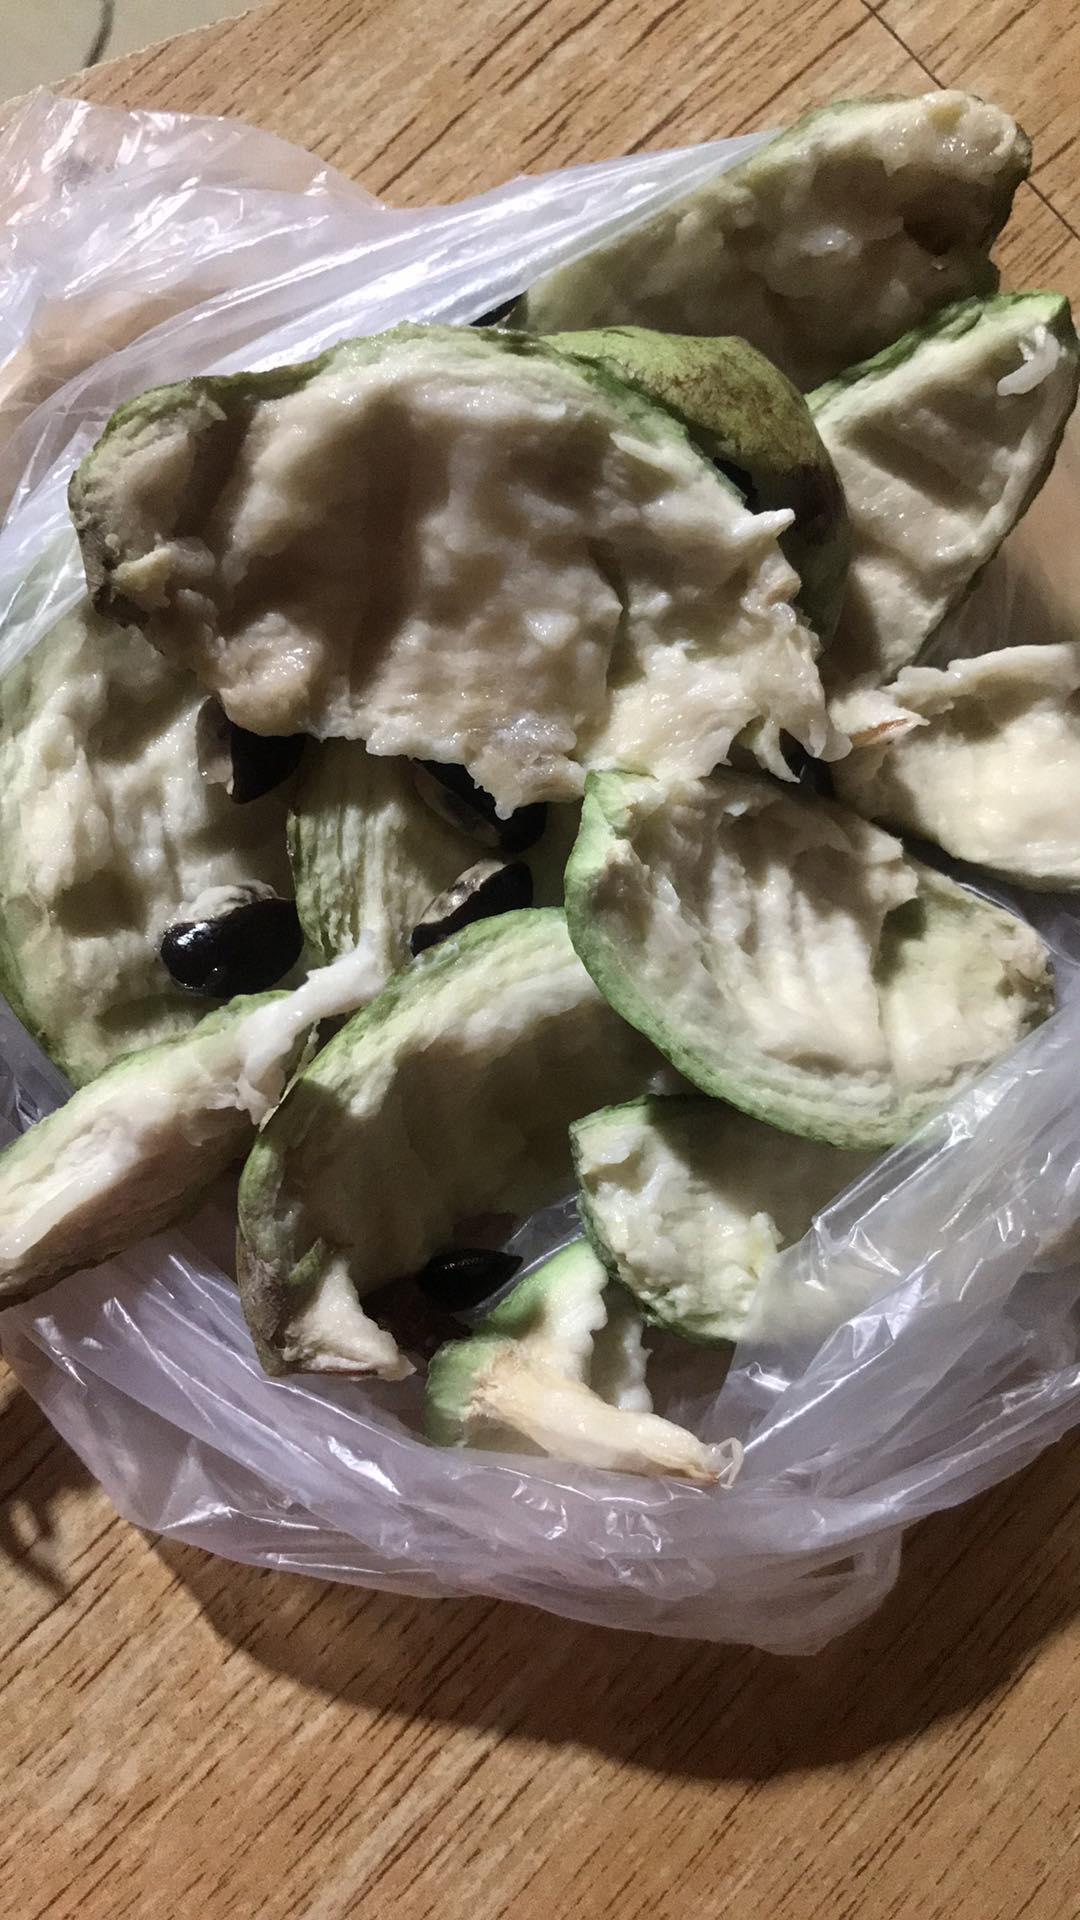organic: (70, 324, 836, 811), (237, 909, 678, 1377), (564, 765, 1051, 1149), (571, 1093, 844, 1340), (425, 1335, 742, 1484)
